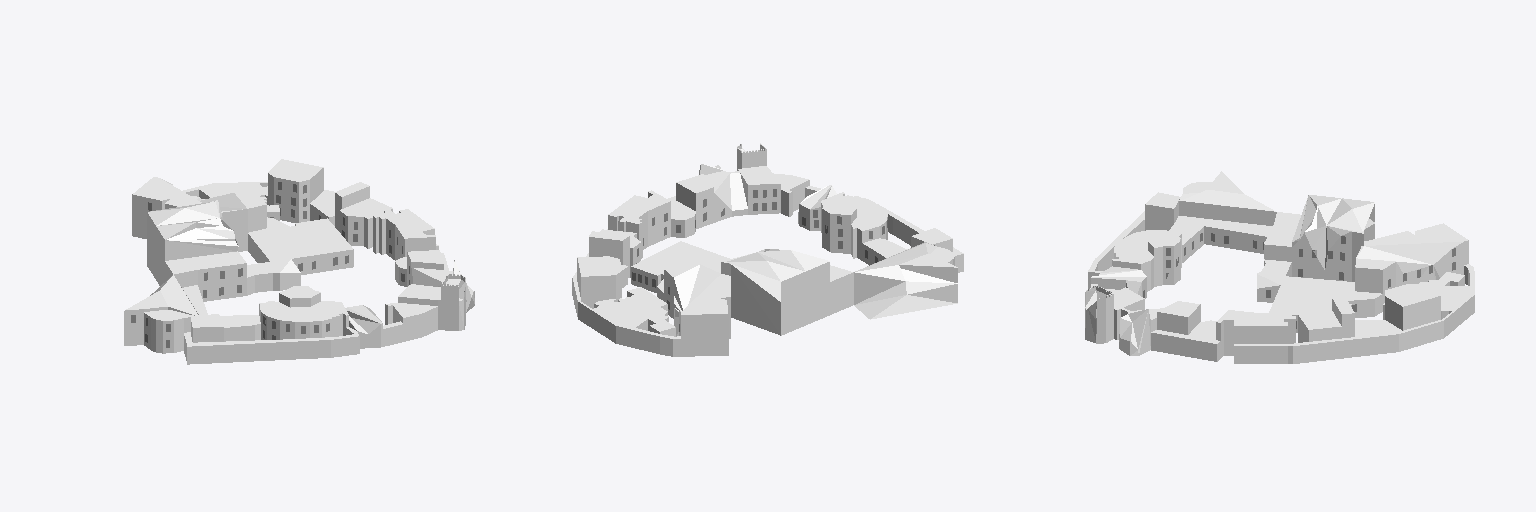
File: castle02Walls.obj
The picture shows the model from 3 angles: view 1: azimuth 30°, elevation 25°; view 2: azimuth 150°, elevation 25°; view 3: azimuth 270°, elevation 25°; orthographic projection.
Parts seen in each view (by area): view 1: group_0_ID4; view 2: group_0_ID4; view 3: group_0_ID4.
Part boxes in pixels (left/top/right/bottom): group_0_ID4: left=124, top=159, right=474, bottom=364; group_0_ID4: left=572, top=143, right=963, bottom=356; group_0_ID4: left=1085, top=171, right=1474, bottom=363.
Bounding box in the file's own units: 97.89 × 17.47 × 103.